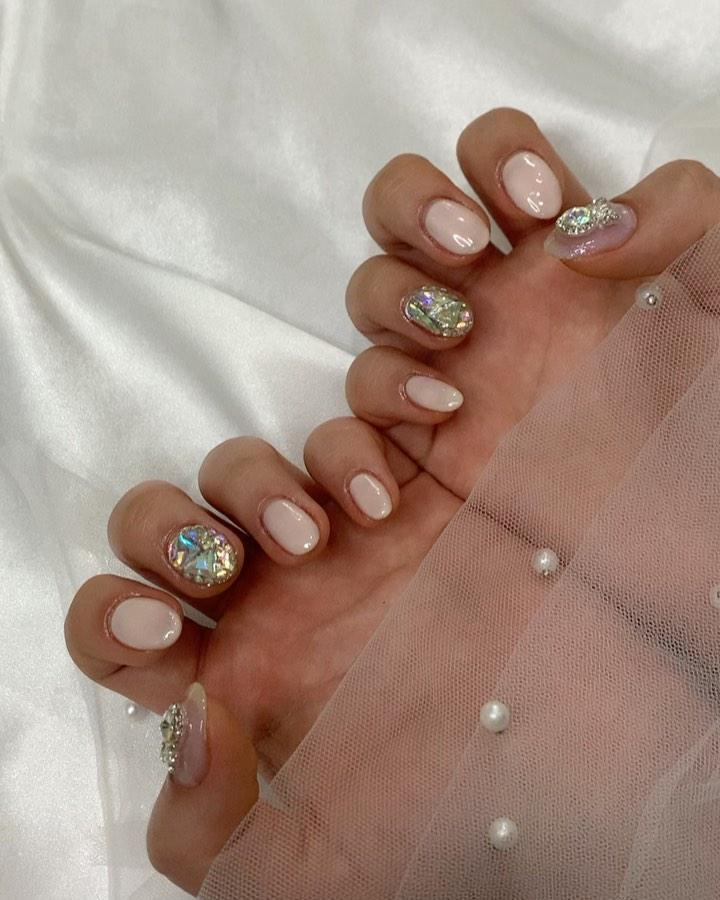nail: (542, 196, 637, 261), (158, 680, 210, 788), (162, 520, 241, 589), (496, 147, 563, 220), (104, 592, 182, 652), (418, 195, 490, 256), (398, 282, 474, 339), (258, 495, 320, 557), (401, 372, 464, 413), (346, 470, 393, 521), (479, 699, 510, 733), (487, 816, 517, 850)
